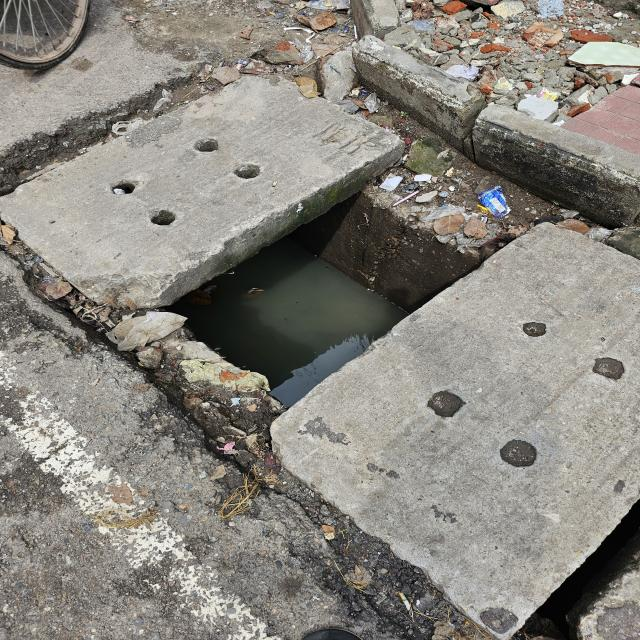drain_inlet: (169, 184, 488, 409)
